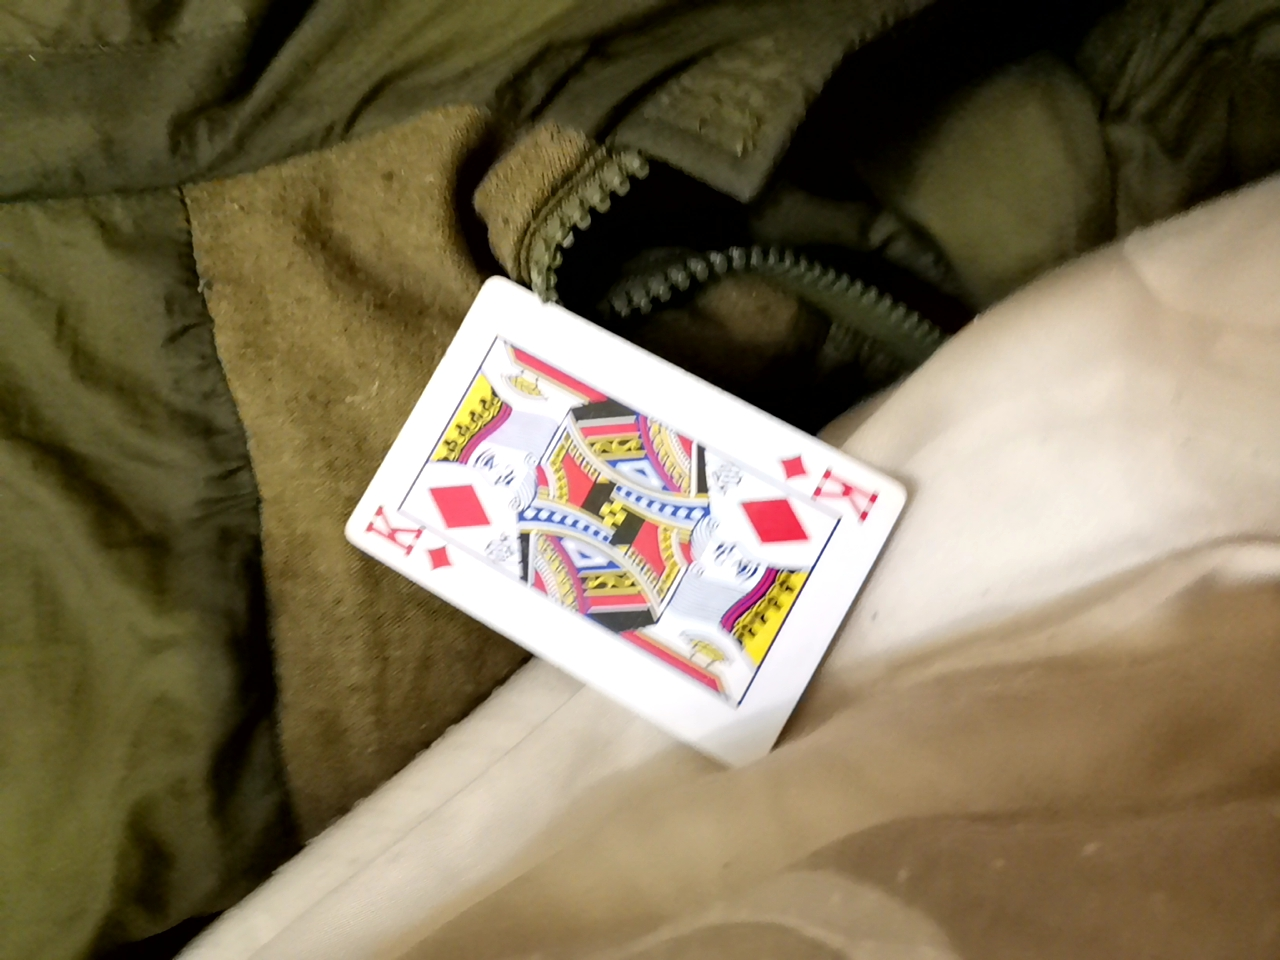fk k: (311, 305, 887, 776)
